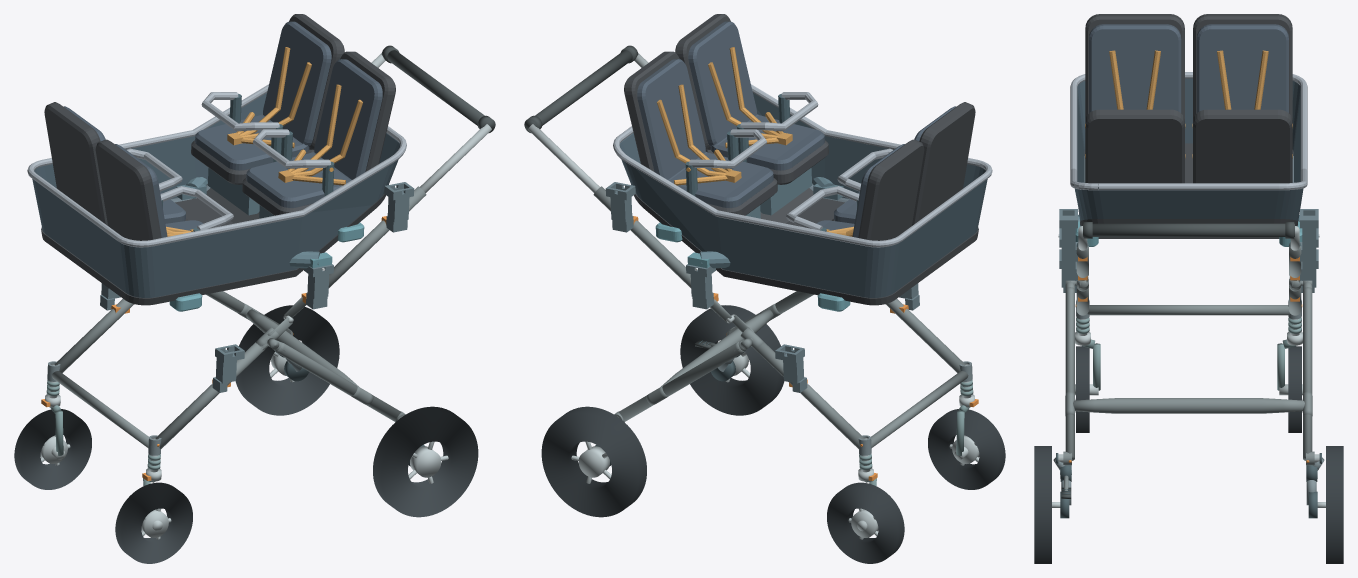
The model's file is S12_w650_state1_wheel_M.glb.
3 views of the same model, side by side, from view 1: azimuth 30°, elevation 25°; view 2: azimuth 150°, elevation 25°; view 3: azimuth 270°, elevation 25° (orthographic). The views are drawn at different scales.
Parts seen in each view (by area): view 1: S12_Cabin, RL_tire.008, RR_tire.008, FL_tire.008, FR_tire.008, round_handle.008, V46_rear_leg_-1.009, main_lower_-1.009, front_fixed_round_tube.008, main_upper_-1.009, main_lower_1.009, Universal_Cabin_Receiver_H_-1 (+6 smaller); view 2: S12_Cabin, RR_tire.008, RL_tire.008, FR_tire.008, FL_tire.008, round_handle.008, V46_rear_leg_1.009, main_lower_1.009, front_fixed_round_tube.008, main_upper_1.009, main_lower_-1.009, Universal_Cabin_Receiver_H_1 (+6 smaller); view 3: S12_Cabin, V46_rearbar.009, round_handle.008, front_fixed_round_tube.008, RL_tire.008, RR_tire.008, V46_rear_leg_1.009, V46_rear_leg_-1.009, FL_tire.008, FR_tire.008, Universal_Cabin_Receiver_H_1, Universal_Cabin_Receiver_H_-1 (+2 smaller).
Part boxes in pixels (left/top/right/bottom): S12_Cabin: left=27, top=14, right=406, bottom=311; RL_tire.008: left=373, top=406, right=478, bottom=517; RR_tire.008: left=235, top=305, right=339, bottom=415; FL_tire.008: left=115, top=482, right=192, bottom=563; FR_tire.008: left=14, top=409, right=91, bottom=489; round_handle.008: left=387, top=50, right=494, bottom=131; V46_rear_leg_-1.009: left=275, top=342, right=401, bottom=421; main_lower_-1.009: left=155, top=342, right=267, bottom=449; front_fixed_round_tube.008: left=51, top=371, right=148, bottom=447; main_upper_-1.009: left=328, top=186, right=426, bottom=288; main_lower_1.009: left=54, top=299, right=134, bottom=373; Universal_Cabin_Receiver_H_-1: left=384, top=182, right=414, bottom=232; S12_Cabin: left=613, top=14, right=992, bottom=311; RR_tire.008: left=541, top=406, right=646, bottom=517; RL_tire.008: left=680, top=305, right=784, bottom=415; FR_tire.008: left=827, top=482, right=904, bottom=563; FL_tire.008: left=928, top=409, right=1005, bottom=489; round_handle.008: left=525, top=50, right=632, bottom=131; V46_rear_leg_1.009: left=618, top=342, right=744, bottom=421; main_lower_1.009: left=752, top=342, right=864, bottom=449; front_fixed_round_tube.008: left=871, top=371, right=968, bottom=447; main_upper_1.009: left=593, top=186, right=691, bottom=288; main_lower_-1.009: left=885, top=299, right=965, bottom=373; Universal_Cabin_Receiver_H_1: left=605, top=182, right=635, bottom=232; S12_Cabin: left=1070, top=14, right=1307, bottom=246; V46_rearbar.009: left=1073, top=398, right=1304, bottom=413; round_handle.008: left=1083, top=223, right=1294, bottom=236; front_fixed_round_tube.008: left=1087, top=305, right=1290, bottom=315; RL_tire.008: left=1034, top=446, right=1051, bottom=563; RR_tire.008: left=1326, top=446, right=1343, bottom=563; V46_rear_leg_1.009: left=1303, top=287, right=1312, bottom=460; V46_rear_leg_-1.009: left=1065, top=287, right=1074, bottom=460; FL_tire.008: left=1076, top=346, right=1089, bottom=432; FR_tire.008: left=1288, top=346, right=1301, bottom=432; Universal_Cabin_Receiver_H_1: left=1300, top=209, right=1318, bottom=261; Universal_Cabin_Receiver_H_-1: left=1059, top=209, right=1077, bottom=261.
Bounding box in the file's own units: 1.16 × 1.24 × 0.7871.
